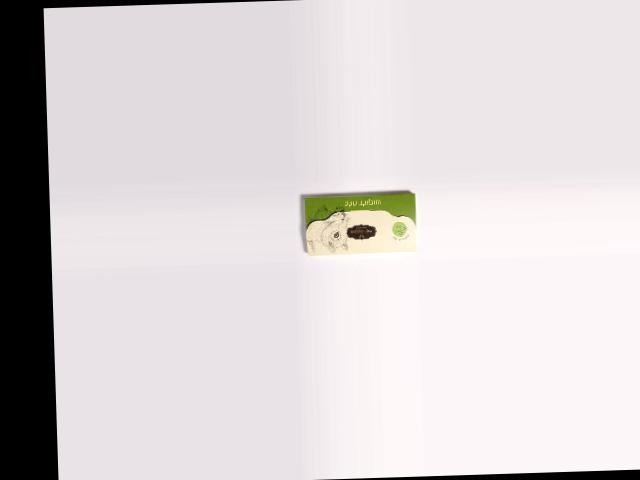chocolate: (303, 191, 418, 257)
